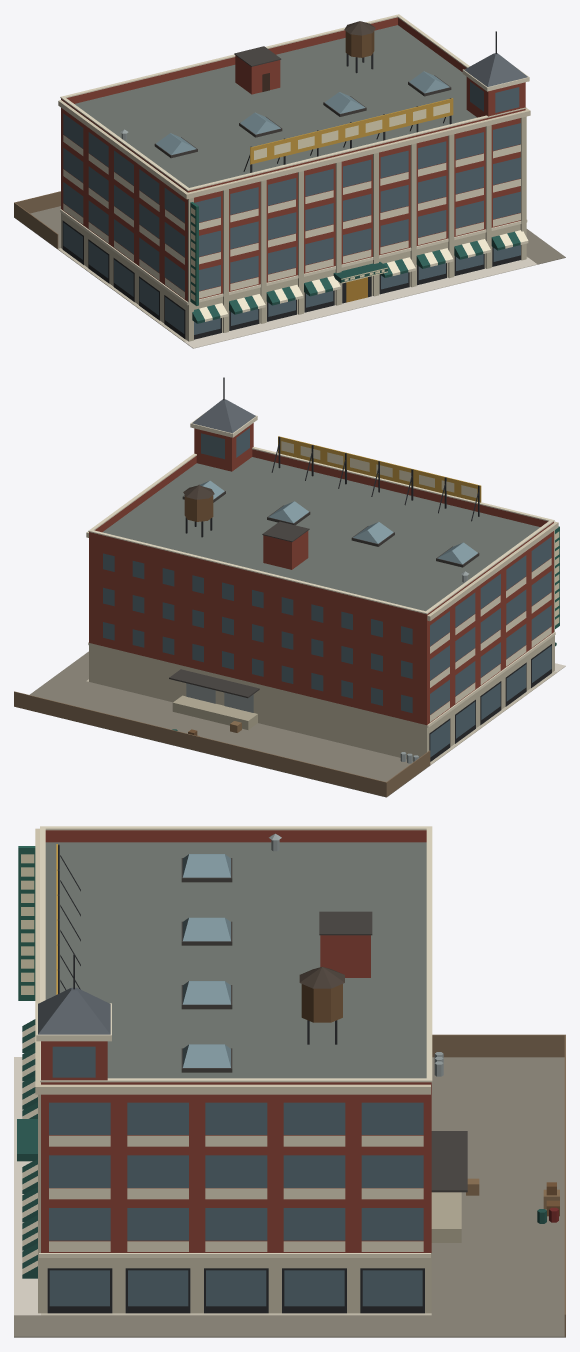
File: mall_c.glb
The picture shows the model from 3 angles, top to bottom: view 1: azimuth 30°, elevation 25°; view 2: azimuth 150°, elevation 25°; view 3: azimuth 270°, elevation 25°; orthographic projection. The views are drawn at different scales.
Parts seen in each view (by area): view 1: mall_c; view 2: mall_c; view 3: mall_c.
Boxes of the visible parts, bbox=[...] form: mall_c: bbox=[14, 14, 565, 348]; mall_c: bbox=[14, 377, 565, 797]; mall_c: bbox=[14, 826, 565, 1337].
Bounding box in the file's own units: 48 × 27.61 × 40.
